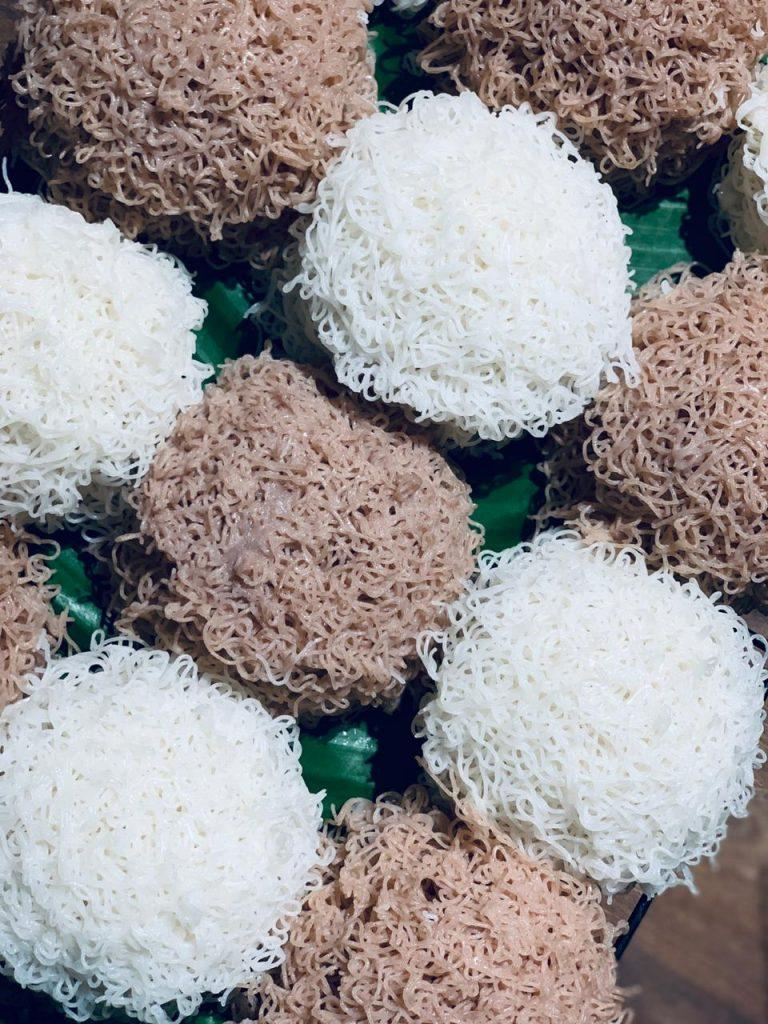String Hoppers: (20, 20, 740, 1007)
